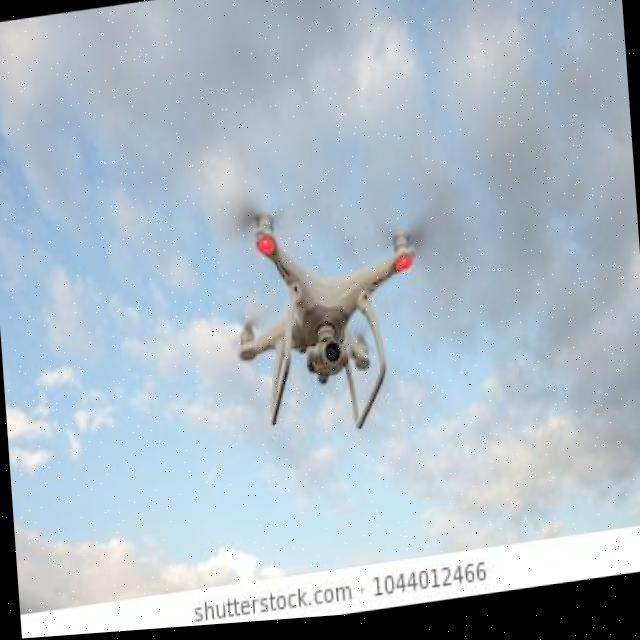drone: (151, 110, 498, 496)
